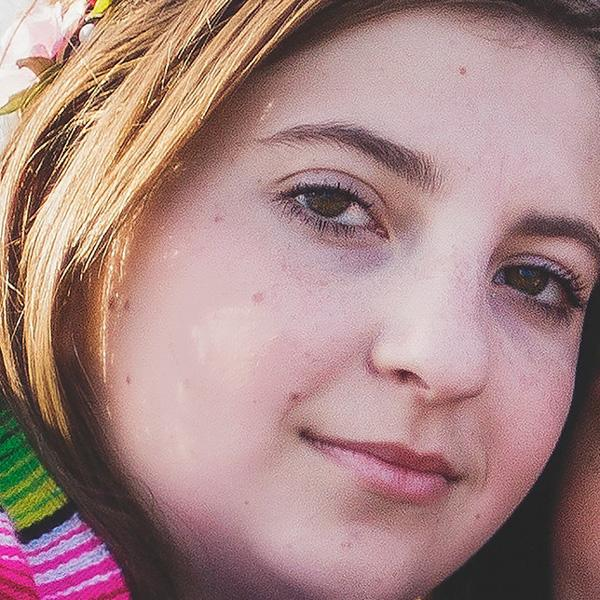Eyes: (262, 158, 398, 254), (483, 244, 586, 324)
